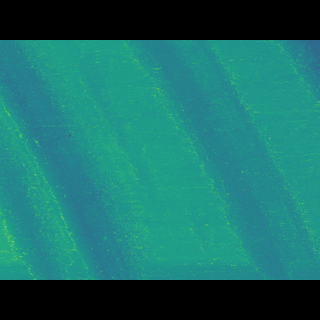Loch: (110, 69, 319, 251), (0, 69, 149, 250)
